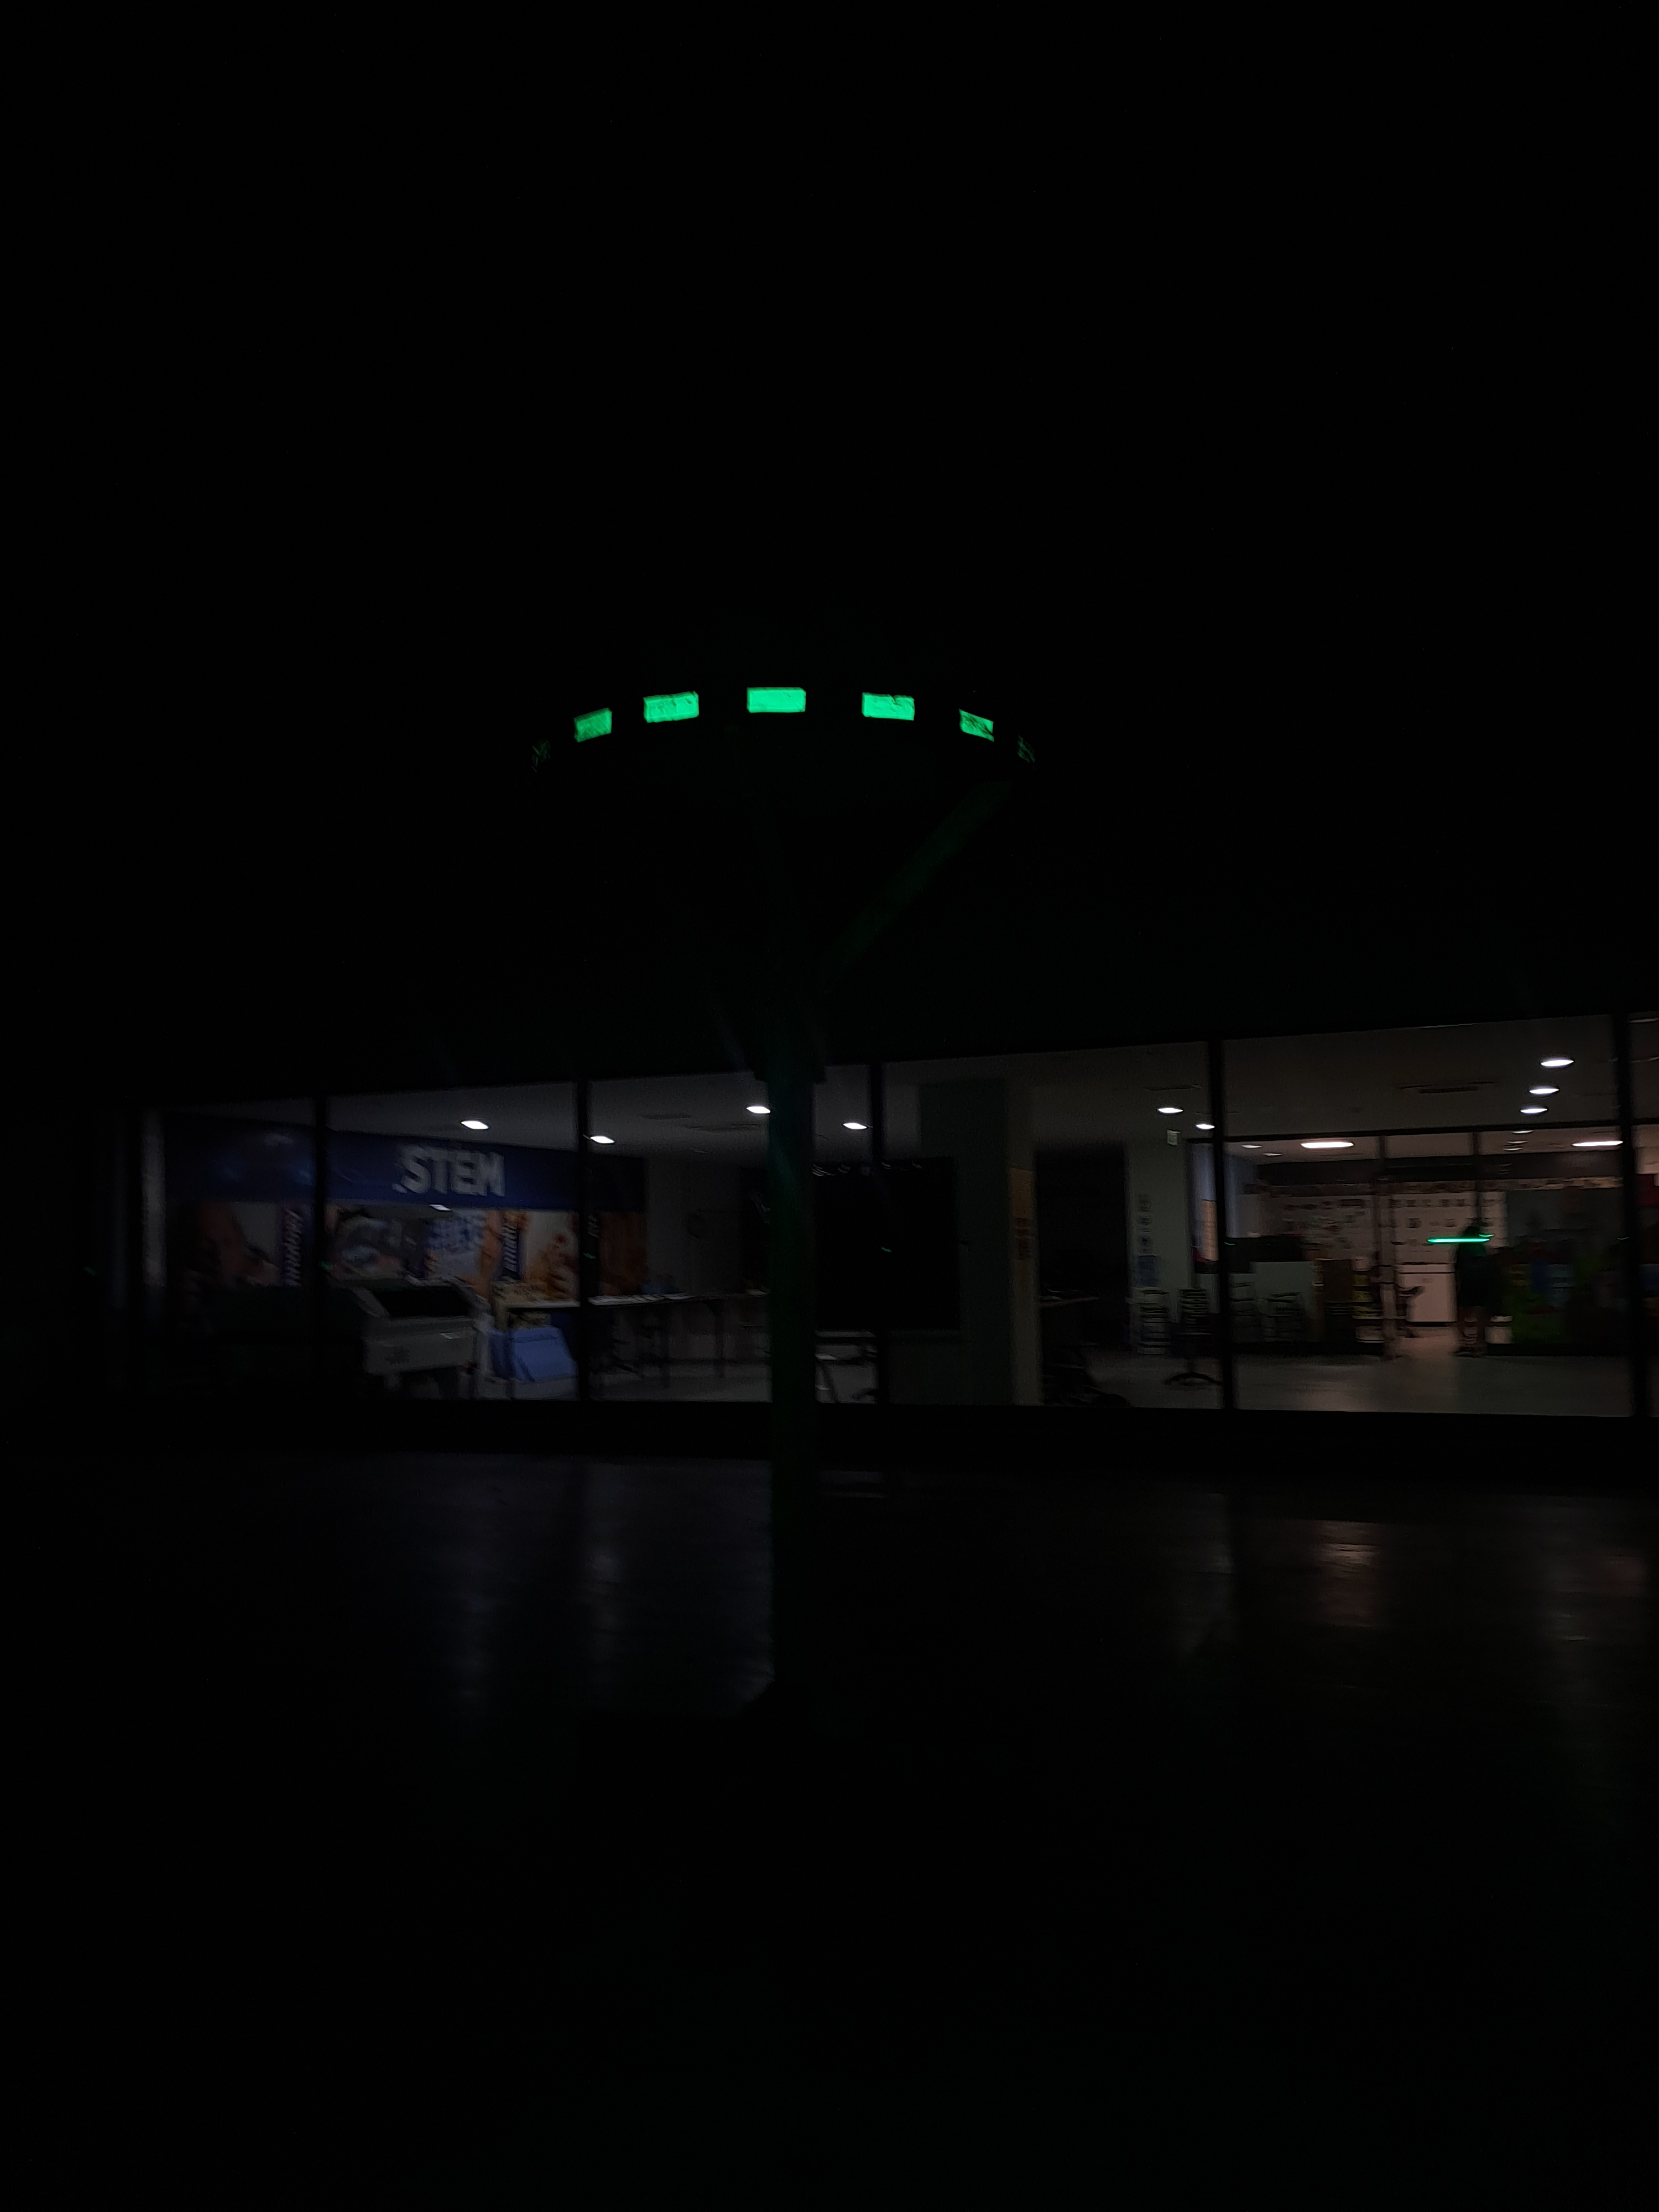hoop: (561, 681, 1002, 749)
